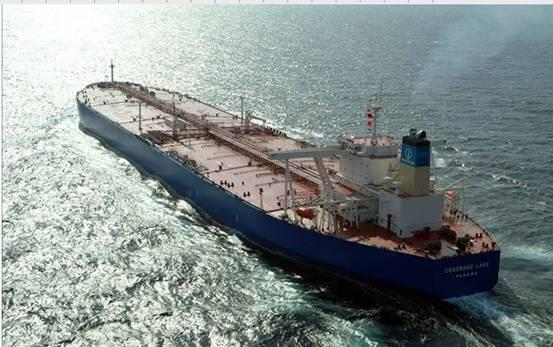Cargoship: (67, 54, 505, 306)
